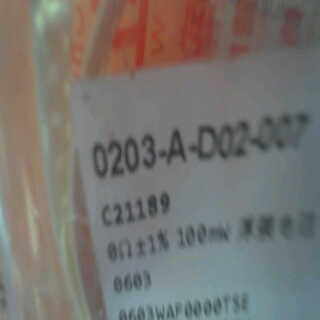0R: (105, 228, 176, 299)
